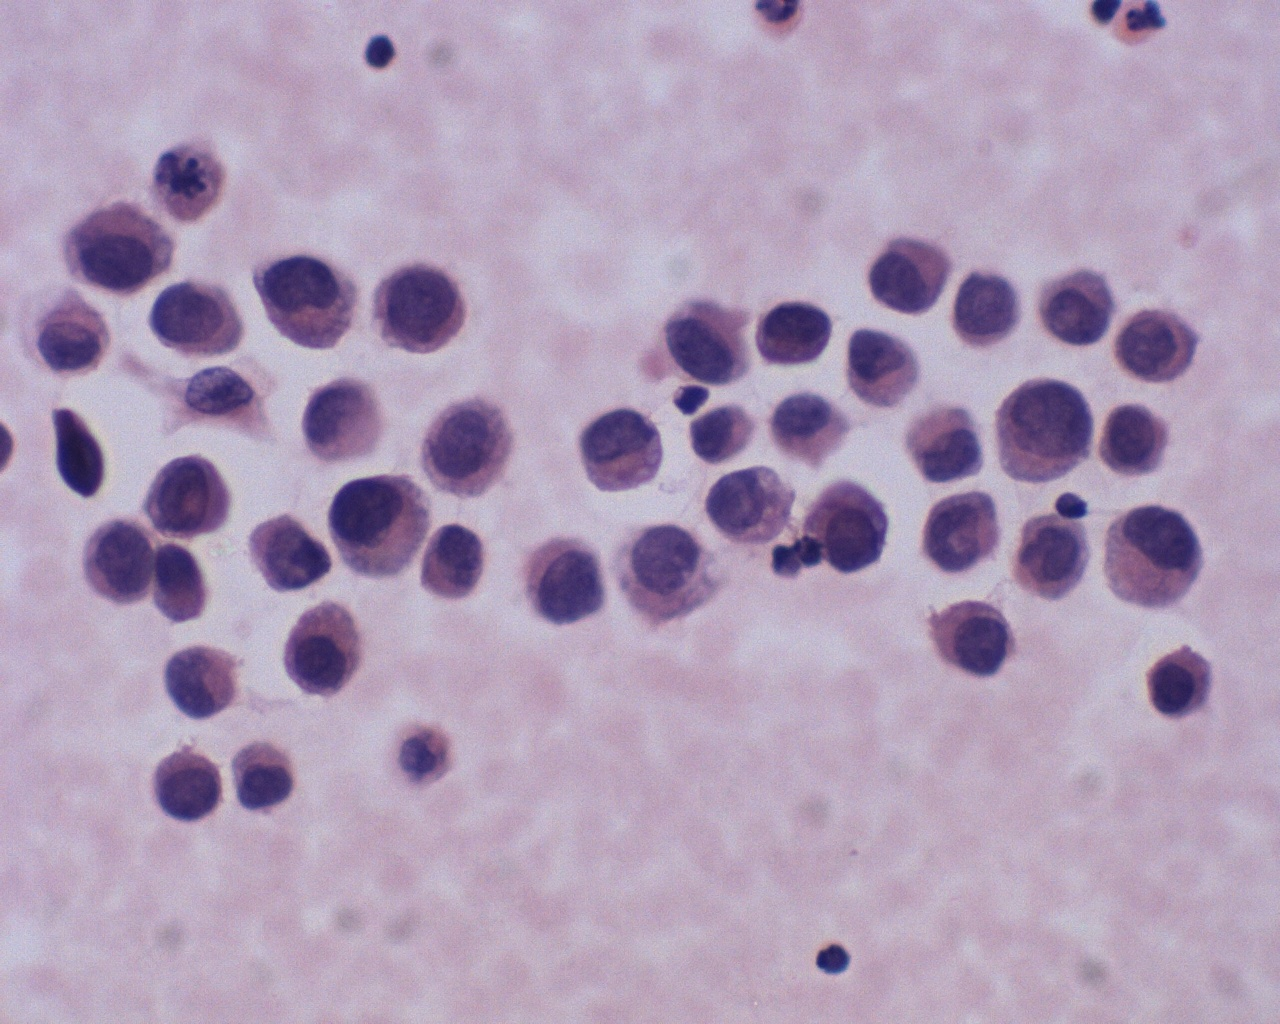ab: (231, 240, 365, 359), (60, 201, 190, 303), (327, 470, 440, 583), (991, 374, 1097, 484), (374, 259, 476, 364), (796, 473, 892, 582), (661, 288, 760, 393), (144, 443, 246, 541), (140, 277, 251, 366), (859, 223, 957, 321), (522, 528, 612, 634), (938, 261, 1043, 351), (925, 587, 1021, 682), (1008, 510, 1098, 610), (1114, 299, 1210, 389), (77, 512, 159, 615), (577, 406, 668, 498), (918, 487, 1005, 582), (706, 462, 798, 551), (1133, 641, 1221, 729), (838, 319, 924, 408), (1038, 262, 1123, 350), (1096, 399, 1176, 483), (751, 288, 835, 368), (152, 742, 228, 828), (230, 734, 302, 821)
lymph: (360, 31, 408, 73)
meso: (1095, 501, 1211, 612), (279, 601, 370, 703)
